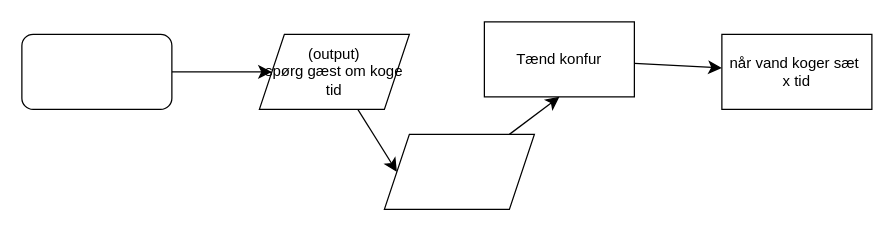
The diagram is 894 pixels wide and 231 high, and some of its shapes have lost their labels. Here are the shapes that lost their labels. From the top down, the box of each, then its label:
(21, 33, 172, 109): start
(383, 133, 534, 209): (input) svar x
